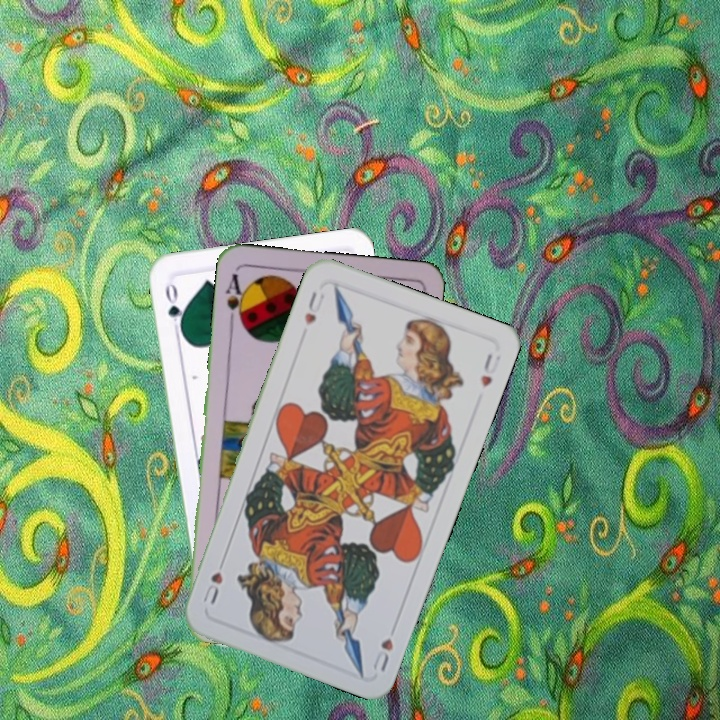GO: (161, 279, 187, 336)
HU: (300, 287, 328, 328), (369, 634, 396, 675)
SA: (221, 269, 249, 328)
